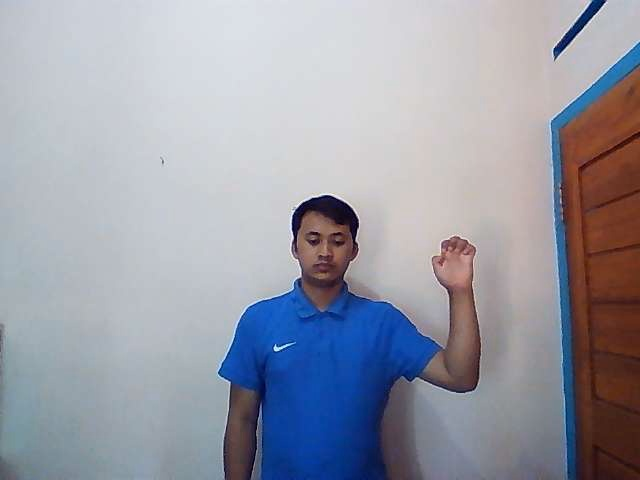E: (432, 236, 477, 290)
